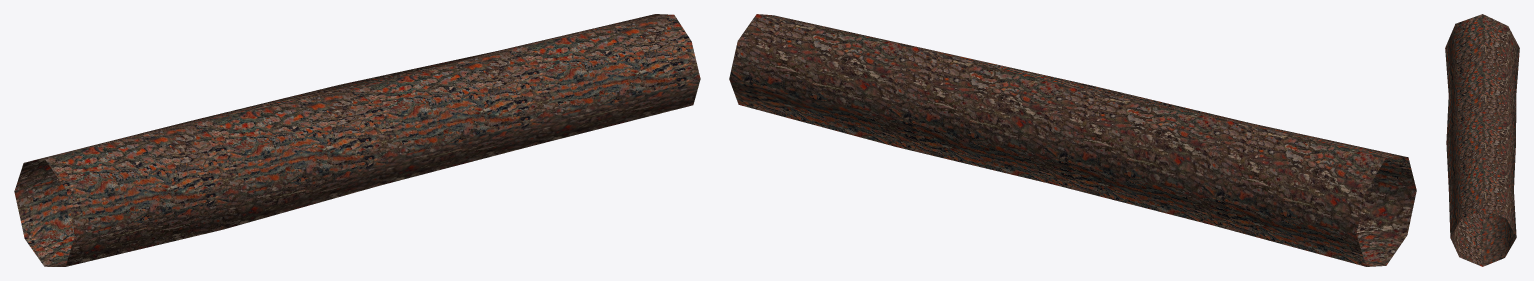
Rendered from log_1.glb.
3 renders of one model, left to right at view 1: azimuth 30°, elevation 25°; view 2: azimuth 150°, elevation 25°; view 3: azimuth 270°, elevation 25°, orthographic. The views are drawn at different scales.
Visible parts, largest first — view 1: log_1; view 2: log_1; view 3: log_1.
Boxes of the visible parts, left/top/right/bottom form: log_1: left=14, top=14, right=700, bottom=266; log_1: left=729, top=14, right=1416, bottom=266; log_1: left=1445, top=14, right=1519, bottom=266.
Size of the model in its own units: 3.4 by 0.5592 by 0.5658.
1 material, 1 textured.
